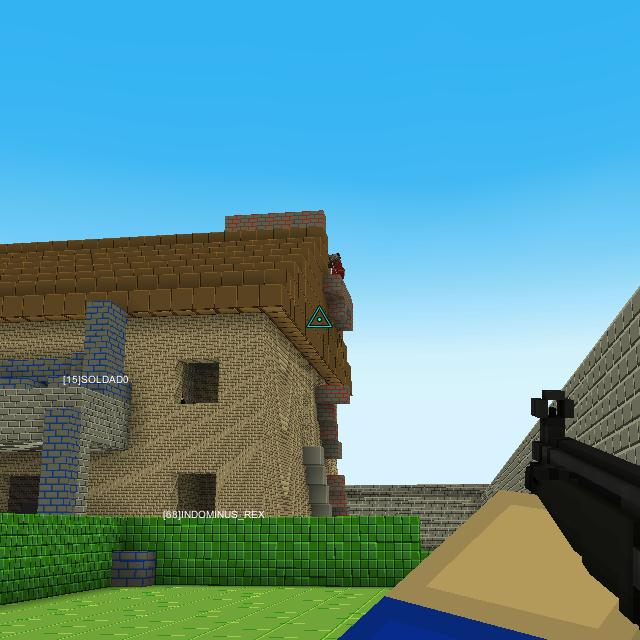enemy: (328, 252, 346, 278), (181, 392, 185, 404)
